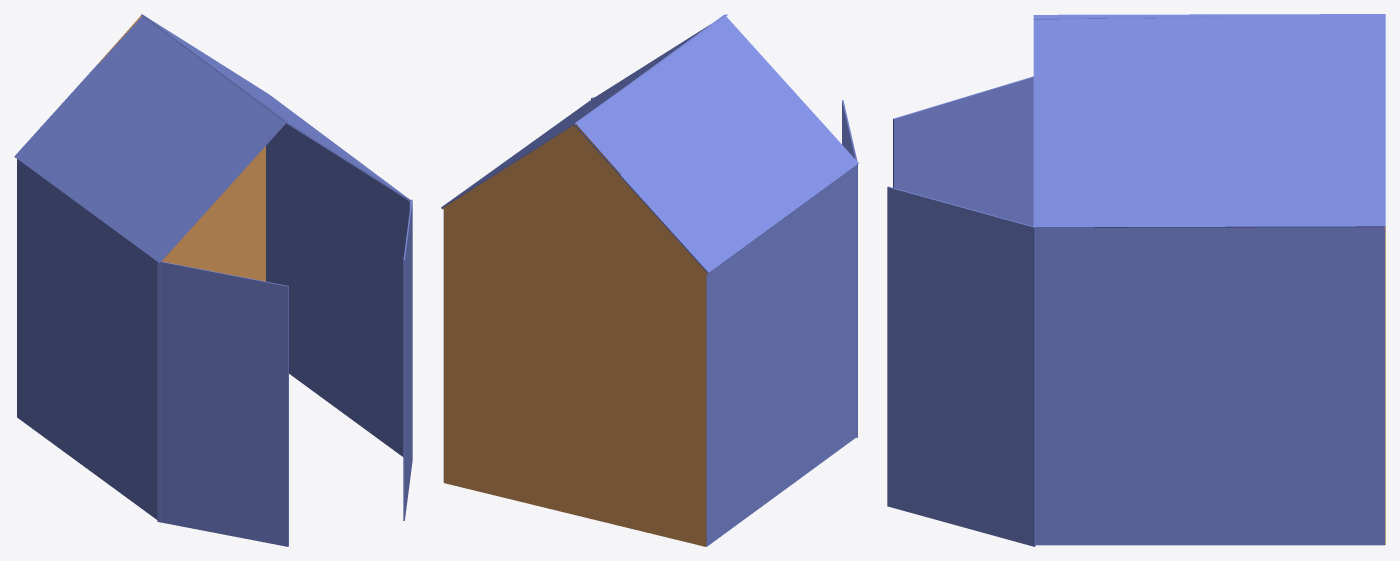
File: shop.fbx
The picture shows the model from 3 angles, left to right: view 1: azimuth 30°, elevation 25°; view 2: azimuth 150°, elevation 25°; view 3: azimuth 270°, elevation 25°; orthographic projection. The views are drawn at different scales.
Visible parts, largest first — view 1: Cube.003, Cube, Cube.005, Cube.002, Cube.001, Cube.006, Cube.004; view 2: Cube.001, Cube.003, Cube.005, Cube.007, Cube.006, Cube; view 3: Cube.002, Cube.006, Cube.004, Cube.
Boxes of the visible parts, x1,y1,x2,y2 form: Cube.003: (17, 159, 160, 522); Cube: (157, 261, 288, 546); Cube.005: (14, 16, 287, 263); Cube.002: (266, 123, 410, 456); Cube.001: (161, 146, 265, 281); Cube.006: (141, 14, 410, 201); Cube.004: (403, 199, 412, 520); Cube.001: (444, 209, 706, 546); Cube.003: (706, 165, 856, 546); Cube.005: (574, 14, 858, 273); Cube.007: (441, 124, 708, 273); Cube.006: (441, 14, 727, 208); Cube: (842, 100, 857, 437); Cube.002: (1032, 225, 1384, 545); Cube.006: (1033, 14, 1385, 227); Cube.004: (887, 186, 1035, 546); Cube: (893, 76, 1033, 225).
Bounding box in the file's own units: 410 × 572 × 566.
